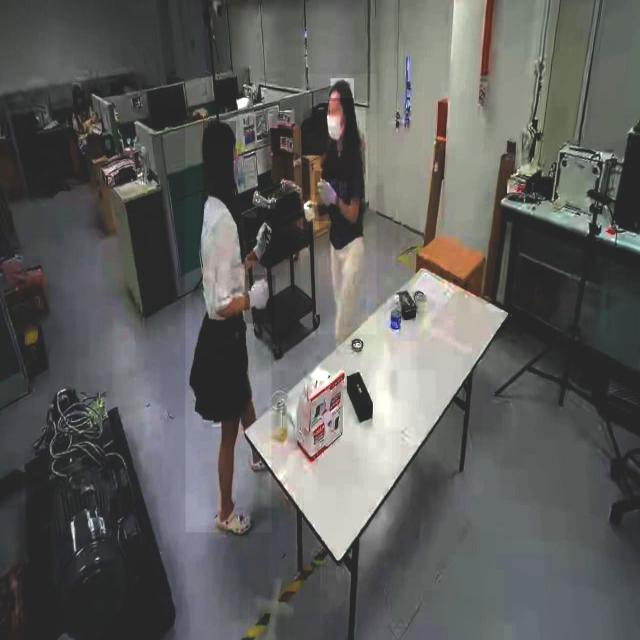face_mask: (326, 101, 346, 150), (74, 92, 84, 111)
hand_glove: (244, 274, 276, 324), (314, 171, 340, 221), (248, 218, 276, 260), (301, 195, 319, 230)
head_nohelmet: (202, 121, 236, 143), (330, 78, 354, 99), (72, 82, 82, 91)
person: (185, 114, 271, 533), (300, 74, 376, 335)
